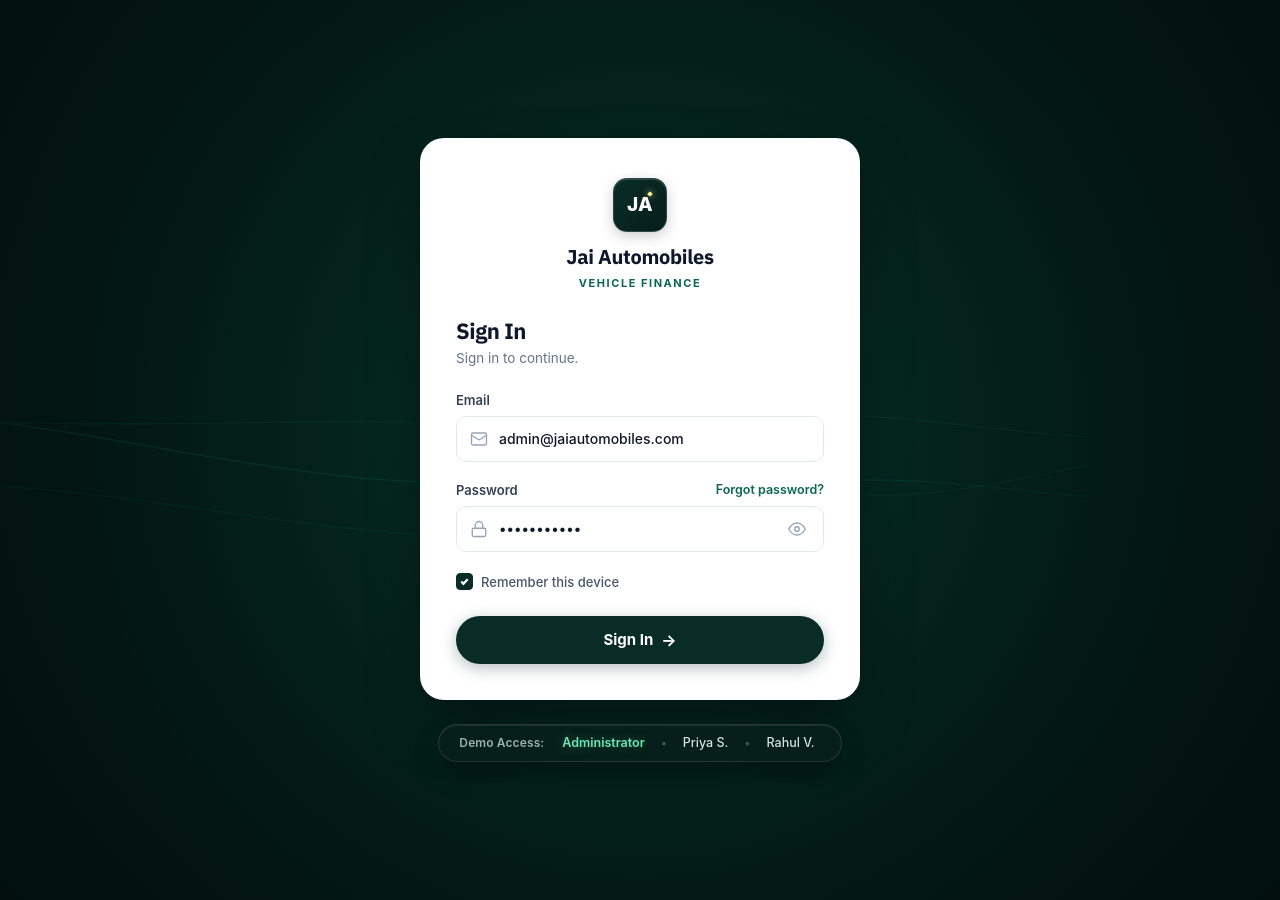
Test: Jai Automobiles Login Experience › toggles password visibility between password and text without losing input value
Step 1. Type "CustomPass@987" into the password field labelled "Password" → coordinates (640, 529), box [456,506,824,552]
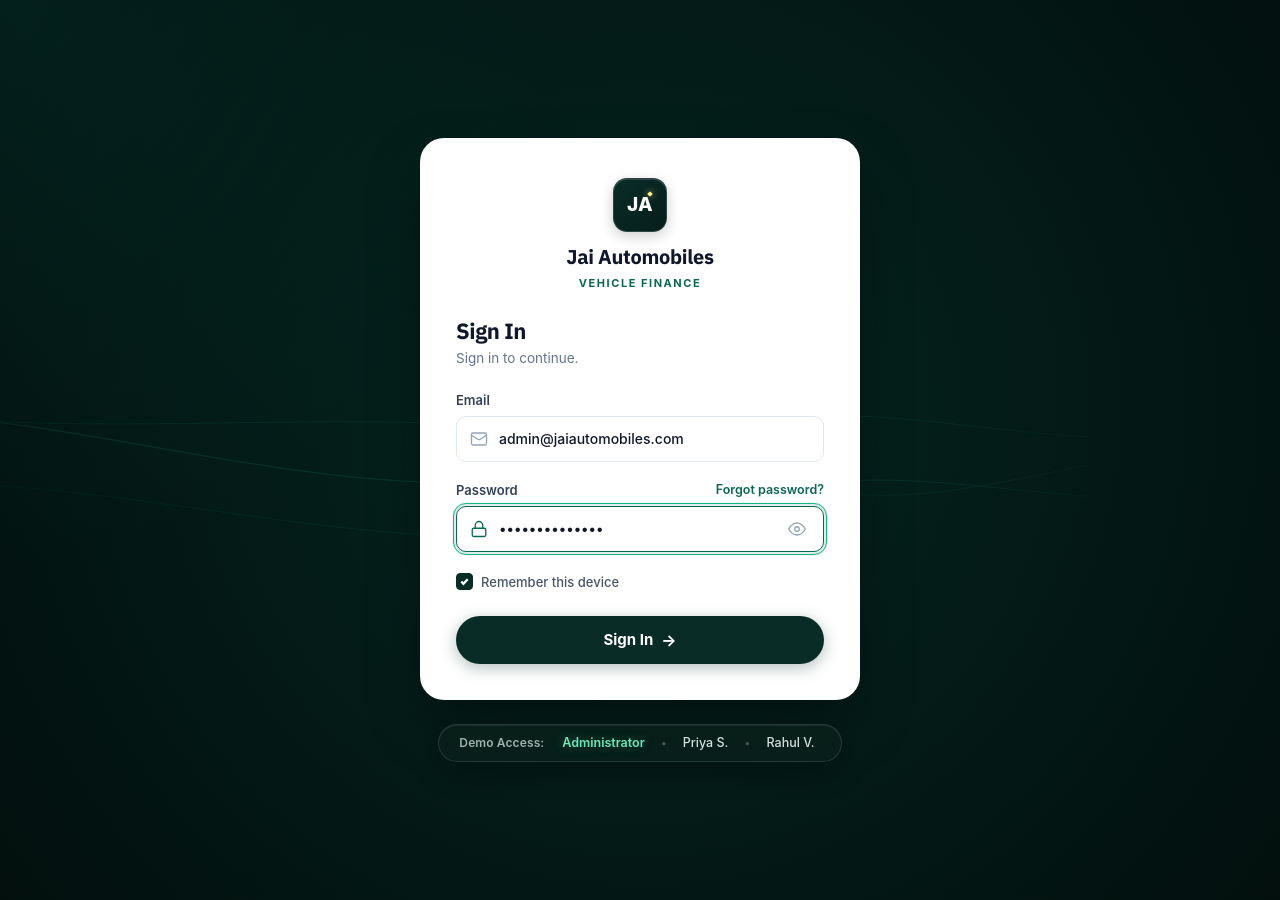
Note: Find and click the toggle button
Step 2. Click the button named "Show password" → coordinates (797, 529), box [782,514,812,544]
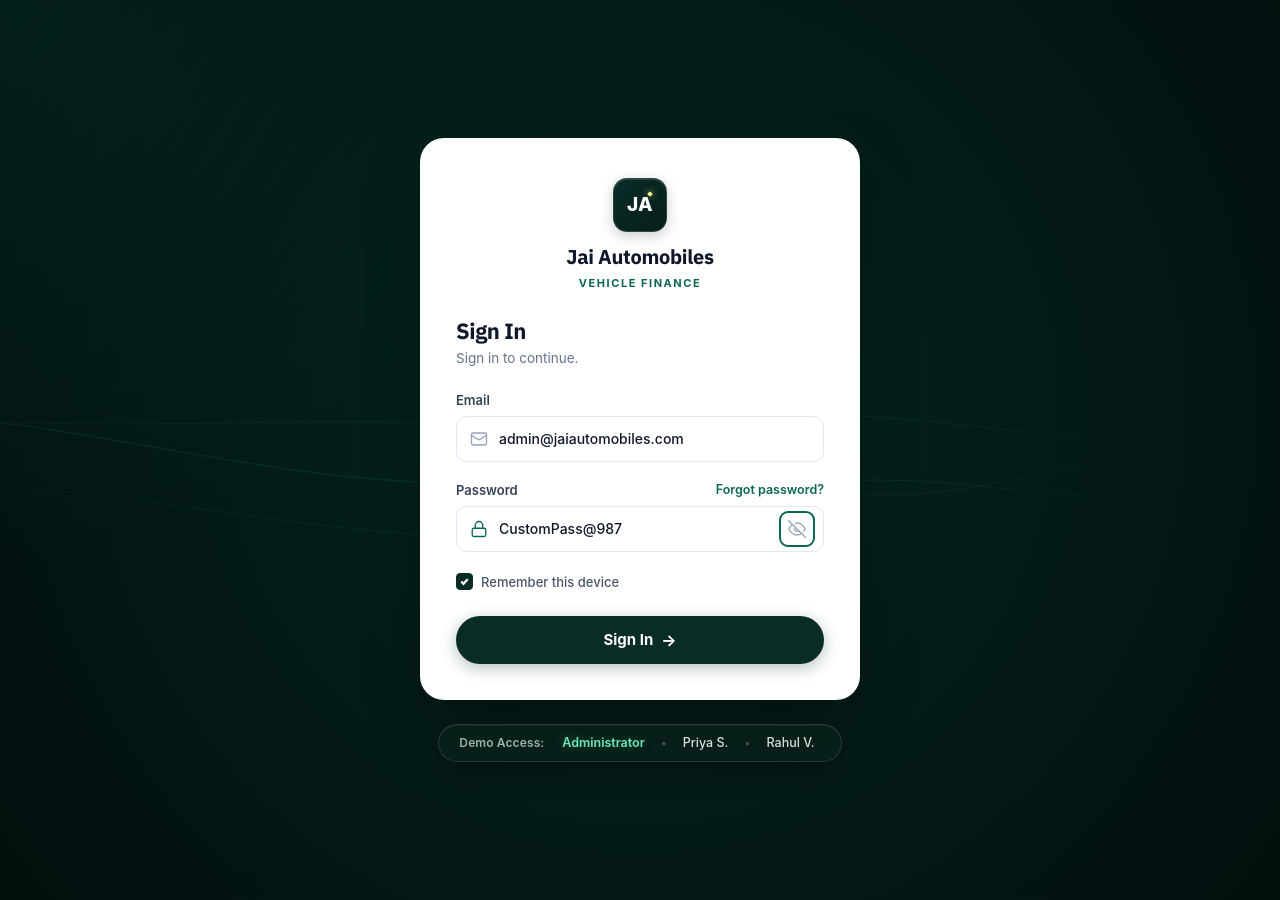
Expected: the field labelled "Password" shows its text, [456,506,824,552]
Note: Click again to hide
Step 3. Click the button named "Hide password" → coordinates (797, 529), box [782,514,812,544]
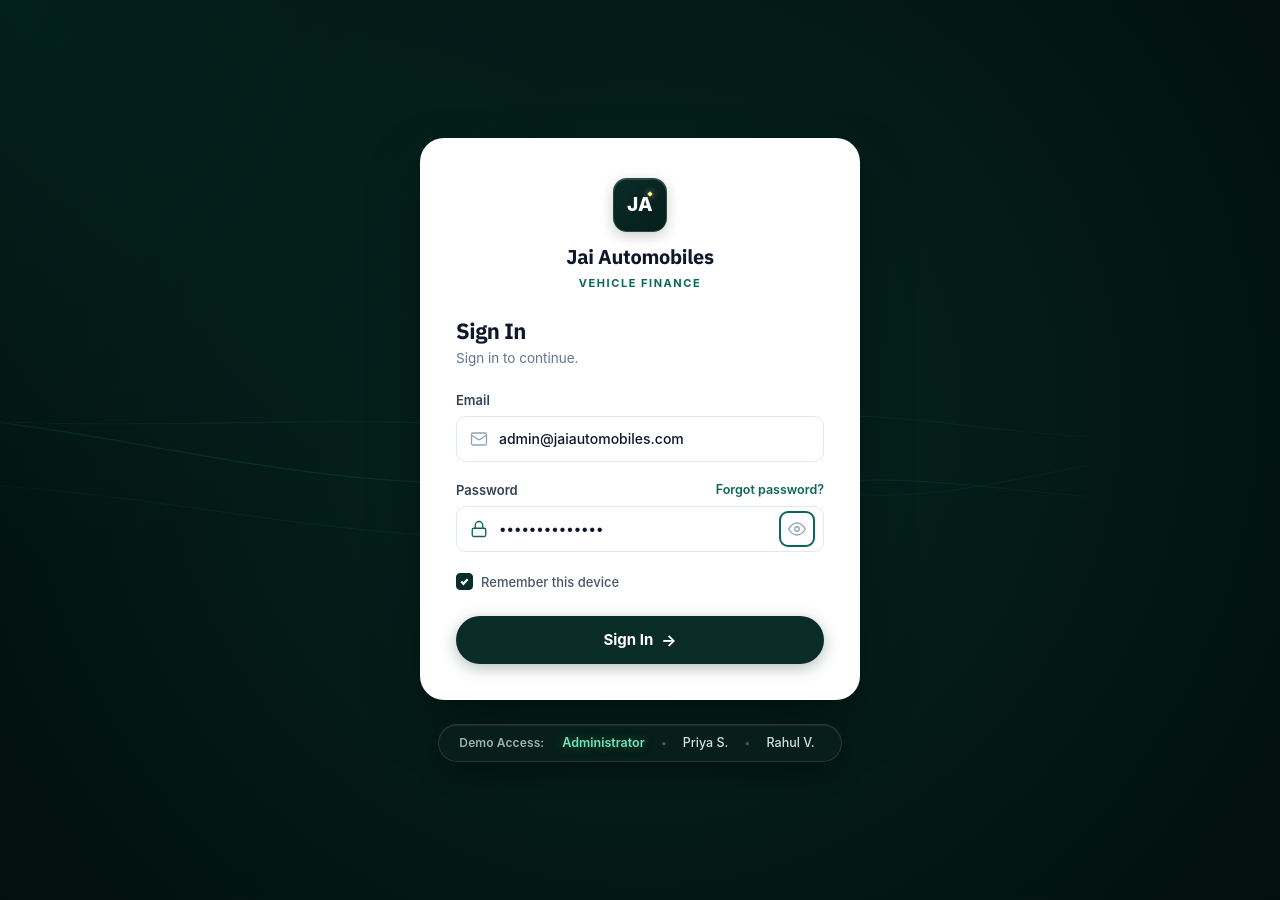
Expected: the password field labelled "Password" hides its text, [456,506,824,552]
